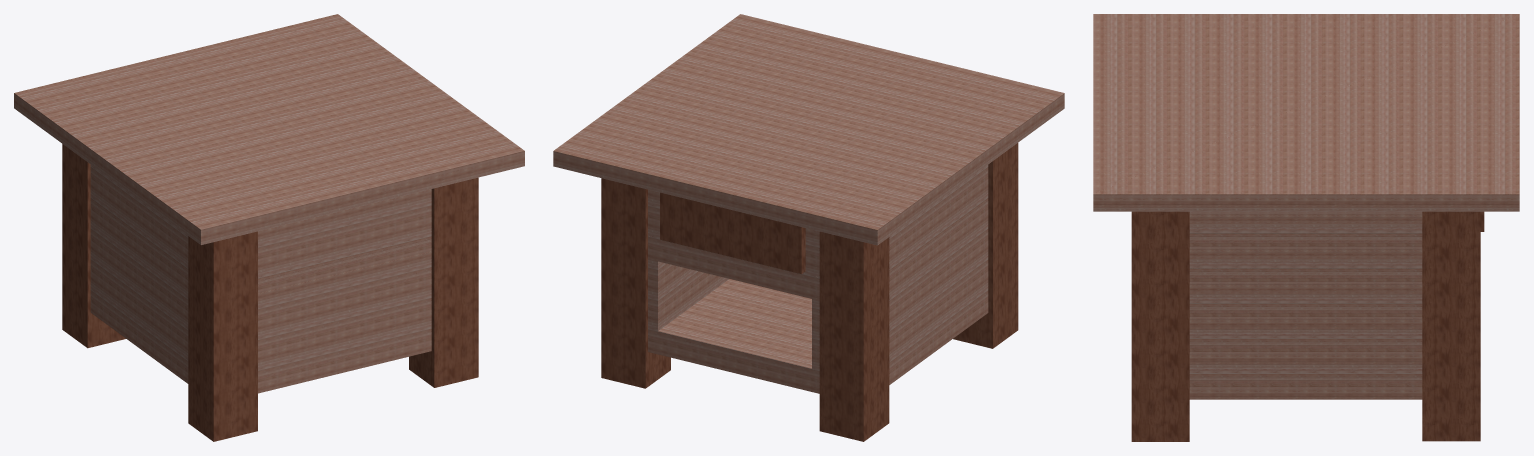
Rendered from NightStand.fbx.
The picture shows the model from 3 angles, left to right: view 1: azimuth 30°, elevation 25°; view 2: azimuth 150°, elevation 25°; view 3: azimuth 270°, elevation 25°; orthographic projection. The views are drawn at different scales.
Visible parts, largest first — view 1: block (×6), block_tube; view 2: block (×6), block_tube; view 3: block (×4), block_tube.
Boxes of the visible parts, bbox=[...] form: block (×6): bbox=[14, 14, 524, 441]; block_tube: bbox=[90, 197, 431, 393]; block (×6): bbox=[553, 14, 1064, 441]; block_tube: bbox=[648, 197, 988, 393]; block (×4): bbox=[1093, 14, 1519, 441]; block_tube: bbox=[1189, 267, 1422, 399].
Bounding box in the file's own units: 110 × 75.2 × 110.
